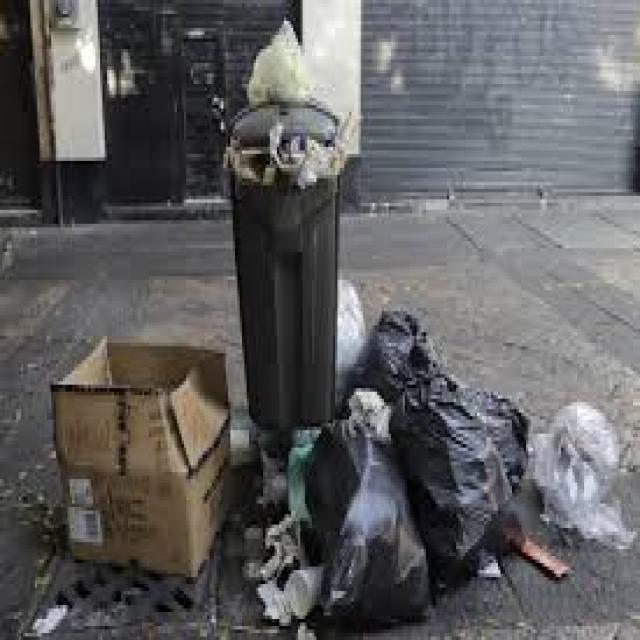garbage: (47, 58, 628, 620)
